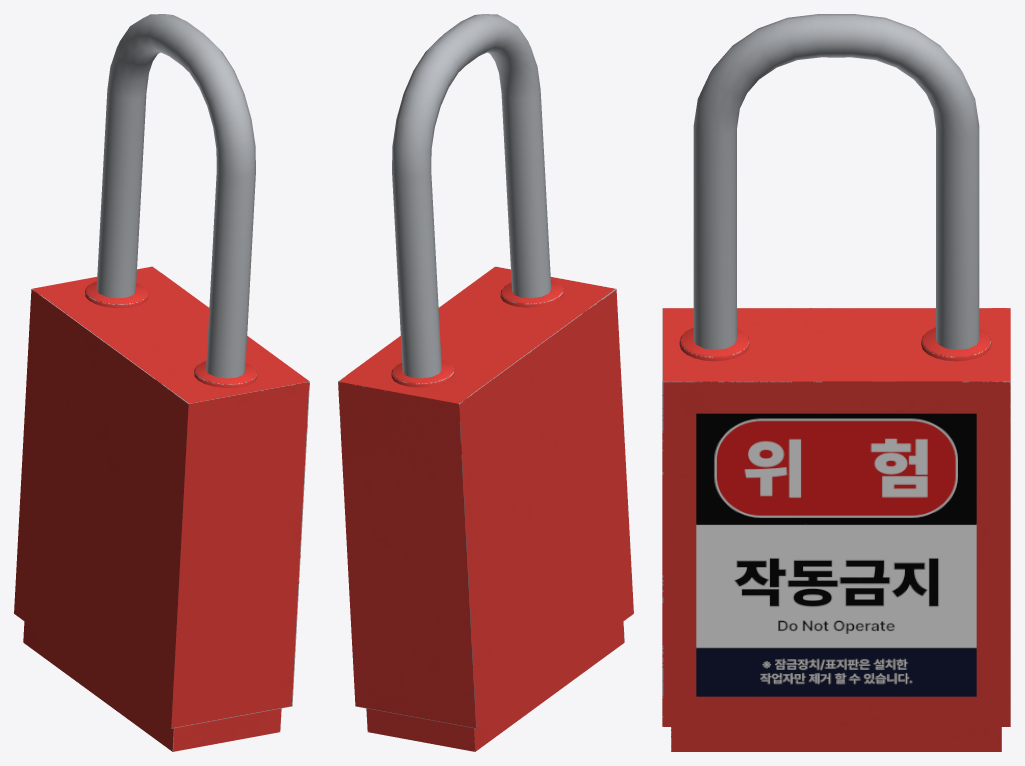
File: FBX_LOTO_lock.fbx
The picture shows the model from 3 angles, left to right: view 1: azimuth 30°, elevation 25°; view 2: azimuth 150°, elevation 25°; view 3: azimuth 270°, elevation 25°; orthographic projection. The views are drawn at different scales.
Parts seen in each view (by area): view 1: SM_LOTO_lock; view 2: SM_LOTO_lock; view 3: SM_LOTO_lock.
Part boxes in pixels (x1,y1,x2,y2): SM_LOTO_lock: (14, 14, 309, 751); SM_LOTO_lock: (338, 14, 633, 751); SM_LOTO_lock: (662, 14, 1010, 751).
Bounding box in the file's own units: 0.0244 × 0.1103 × 0.048.
